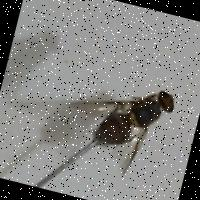Oriental-fruit-fly: (52, 44, 200, 196)
